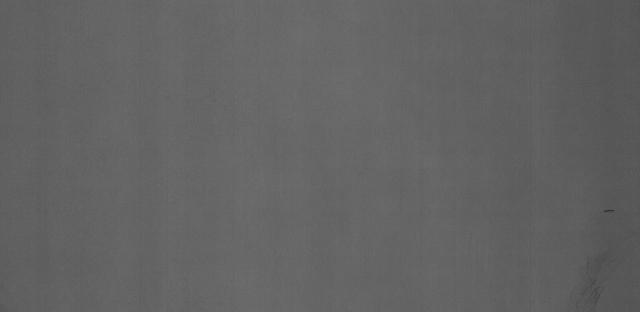inclusion: (597, 201, 624, 221)
water_spot: (557, 236, 620, 307)
